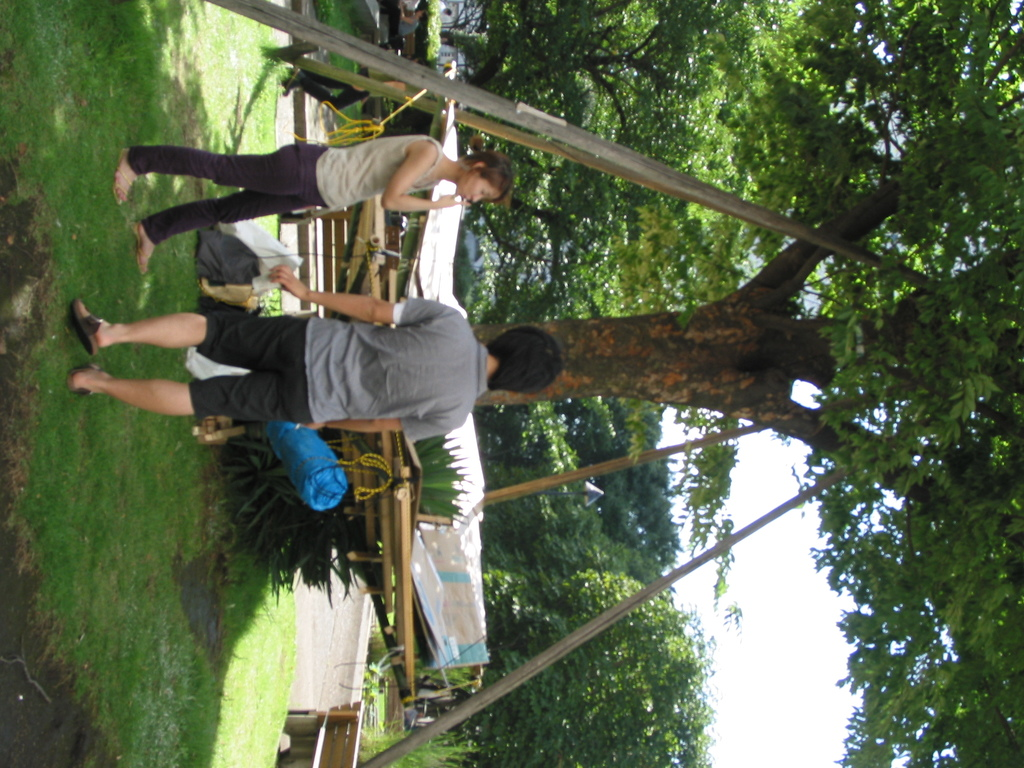Human_hand: (268, 266, 309, 298), (431, 194, 469, 209)
